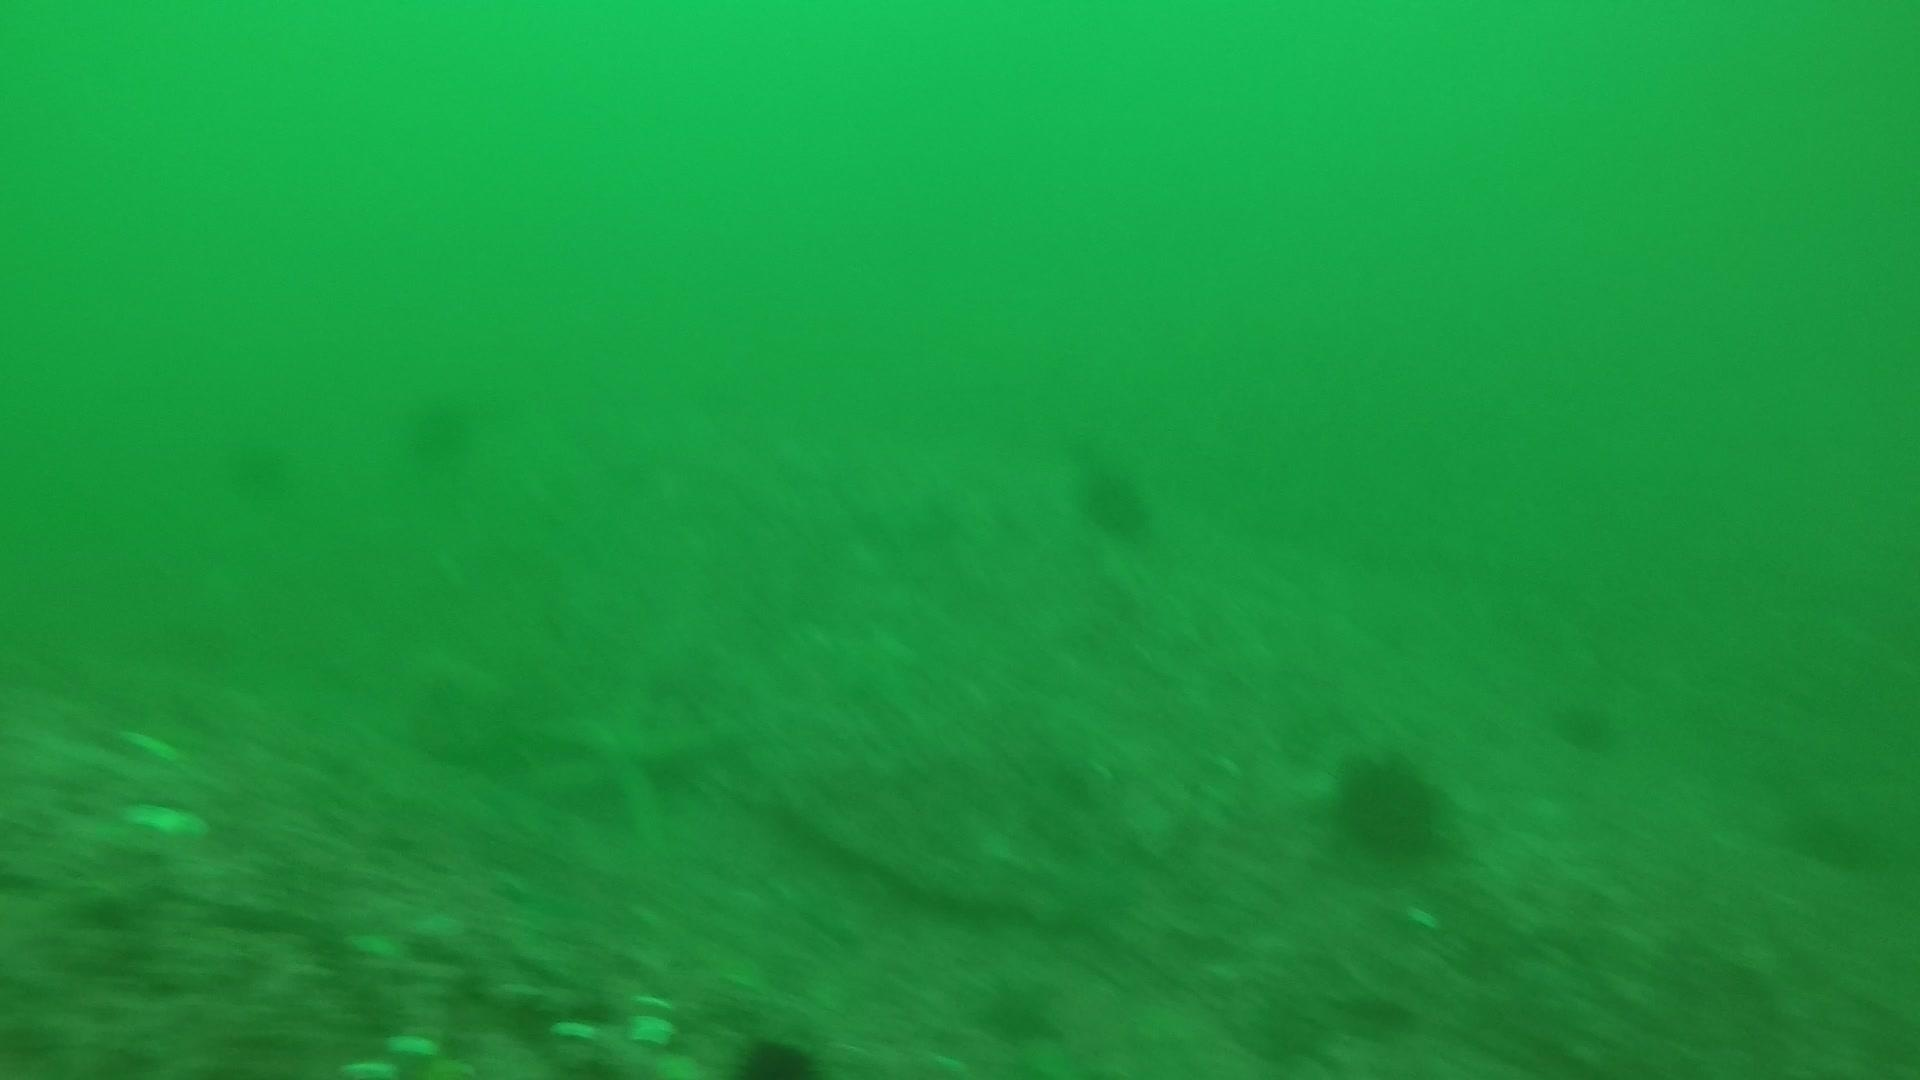echinus: (1327, 746, 1453, 866), (396, 384, 481, 468), (1072, 458, 1156, 542), (222, 429, 299, 504), (1549, 692, 1622, 756), (732, 1029, 822, 1077)
starfish: (535, 691, 717, 829)
